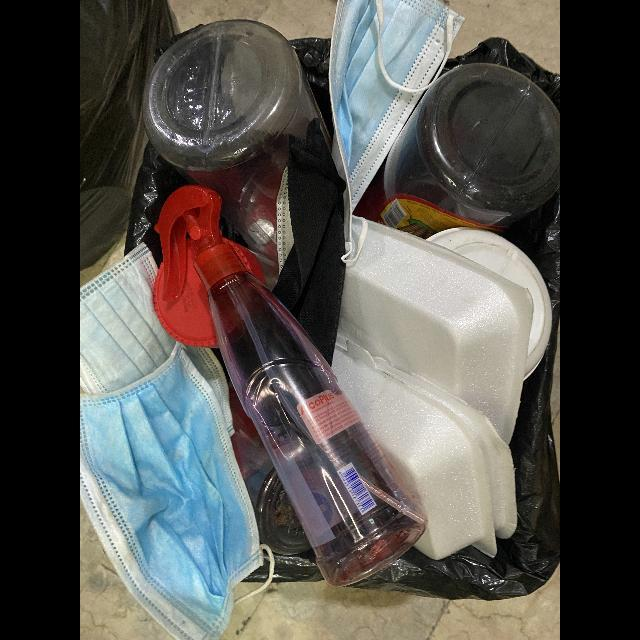plastic_bottle: (194, 245, 428, 588), (141, 18, 317, 291)
plastic_container: (380, 63, 560, 240)
